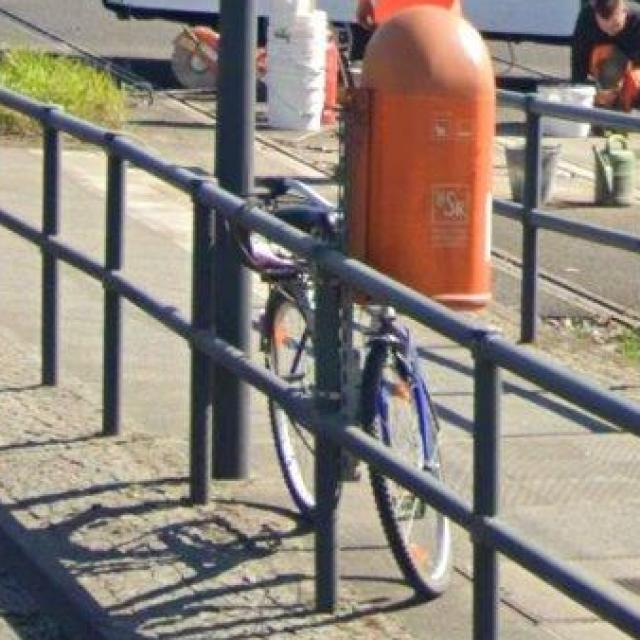bicycle: (345, 304, 443, 479), (246, 240, 314, 394), (373, 471, 452, 601), (272, 401, 314, 521), (261, 183, 342, 245)
